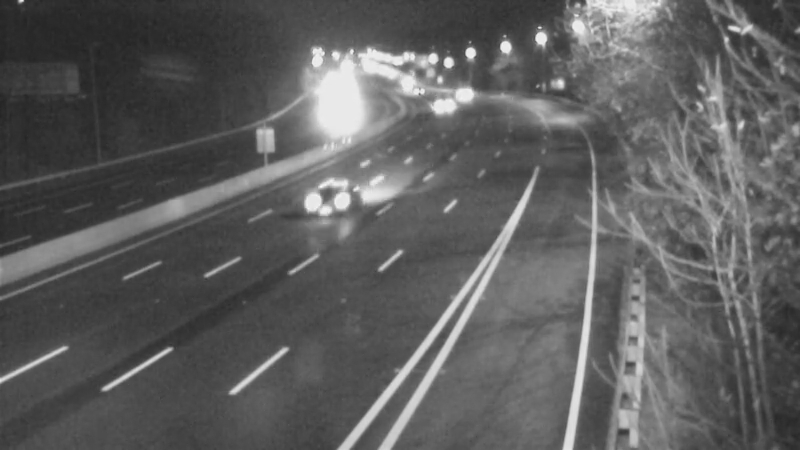vehicle: (290, 155, 370, 235), (389, 64, 439, 114), (439, 69, 489, 119), (415, 81, 465, 131), (303, 86, 353, 136)
